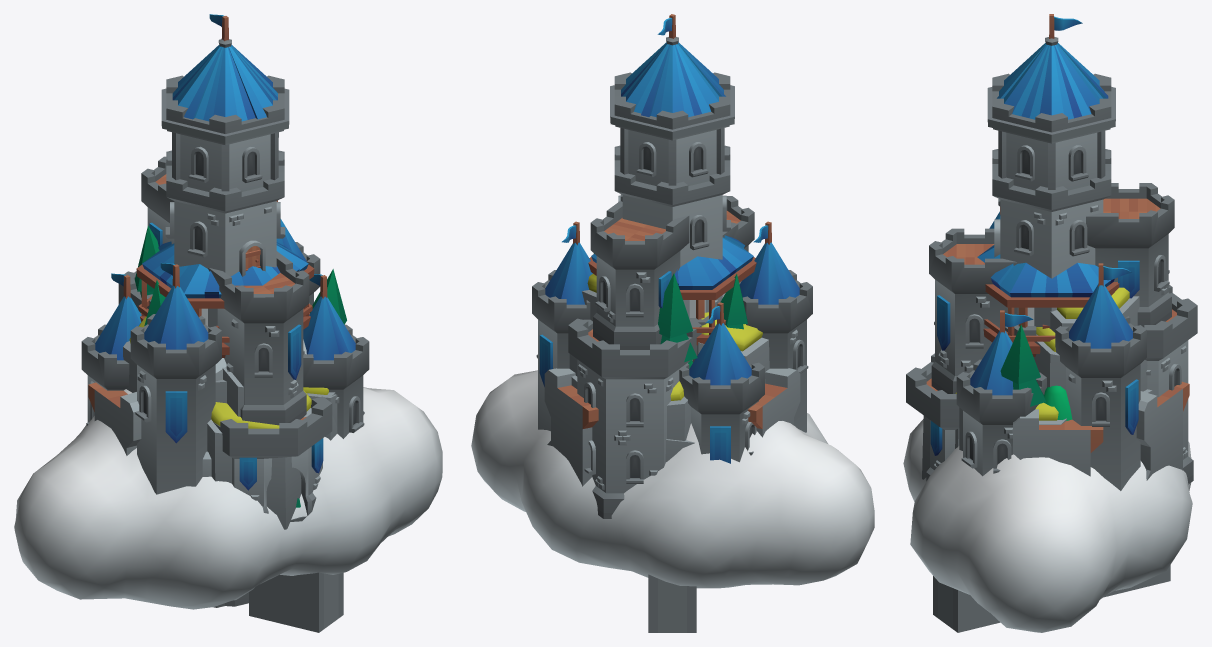
The model's file is castle.glb.
3 views of the same model, side by side, from view 1: azimuth 30°, elevation 25°; view 2: azimuth 150°, elevation 25°; view 3: azimuth 270°, elevation 25° (orthographic). The views are drawn at different scales.
Parts seen in each view (by area): view 1: building_castle_blue, cloud_big, mountain_C_grass, building_bridge_A, building_tower_B_top_blue, mountain_A_grass_trees, wall_corner_A_outside, wall_straight_gate; view 2: building_castle_blue, cloud_big, wall_corner_A_outside, building_tower_B_top_blue, mountain_A_grass_trees, mountain_C_grass, building_bridge_A, mountain_B_grass; view 3: building_castle_blue, cloud_big, building_tower_B_top_blue, wall_corner_A_outside, wall_straight, mountain_B_grass, building_bridge_A, mountain_A_grass_trees, mountain_C_grass, trees_B_medium, wall_straight_gate.
Part boxes in pixels (<box>): building_castle_blue: <box>81,14,369,521</box>; cloud_big: <box>14,387,442,609</box>; mountain_C_grass: <box>123,316,337,529</box>; building_bridge_A: <box>213,572,343,632</box>; building_tower_B_top_blue: <box>136,240,314,357</box>; mountain_A_grass_trees: <box>134,225,346,439</box>; wall_corner_A_outside: <box>88,382,136,455</box>; wall_straight_gate: <box>126,339,306,455</box>; building_castle_blue: <box>532,14,812,518</box>; cloud_big: <box>471,370,874,588</box>; wall_corner_A_outside: <box>544,368,800,486</box>; building_tower_B_top_blue: <box>588,235,756,345</box>; mountain_A_grass_trees: <box>593,253,747,463</box>; mountain_C_grass: <box>571,312,769,440</box>; building_bridge_A: <box>648,574,696,632</box>; mountain_B_grass: <box>569,273,694,462</box>; building_castle_blue: <box>906,14,1197,490</box>; cloud_big: <box>903,419,1192,632</box>; building_tower_B_top_blue: <box>977,245,1119,356</box>; wall_corner_A_outside: <box>1136,381,1189,480</box>; wall_straight: <box>1013,409,1103,476</box>; mountain_B_grass: <box>1033,287,1147,424</box>; building_bridge_A: <box>933,565,1170,632</box>; mountain_A_grass_trees: <box>959,324,1046,432</box>; mountain_C_grass: <box>922,389,1152,479</box>; trees_B_medium: <box>1044,385,1072,420</box>; wall_straight_gate: <box>1013,417,1097,454</box>.
Size of the model in its own units: 3.61 by 4.98 by 2.28.
Materials: 1 (1 with a texture image).
